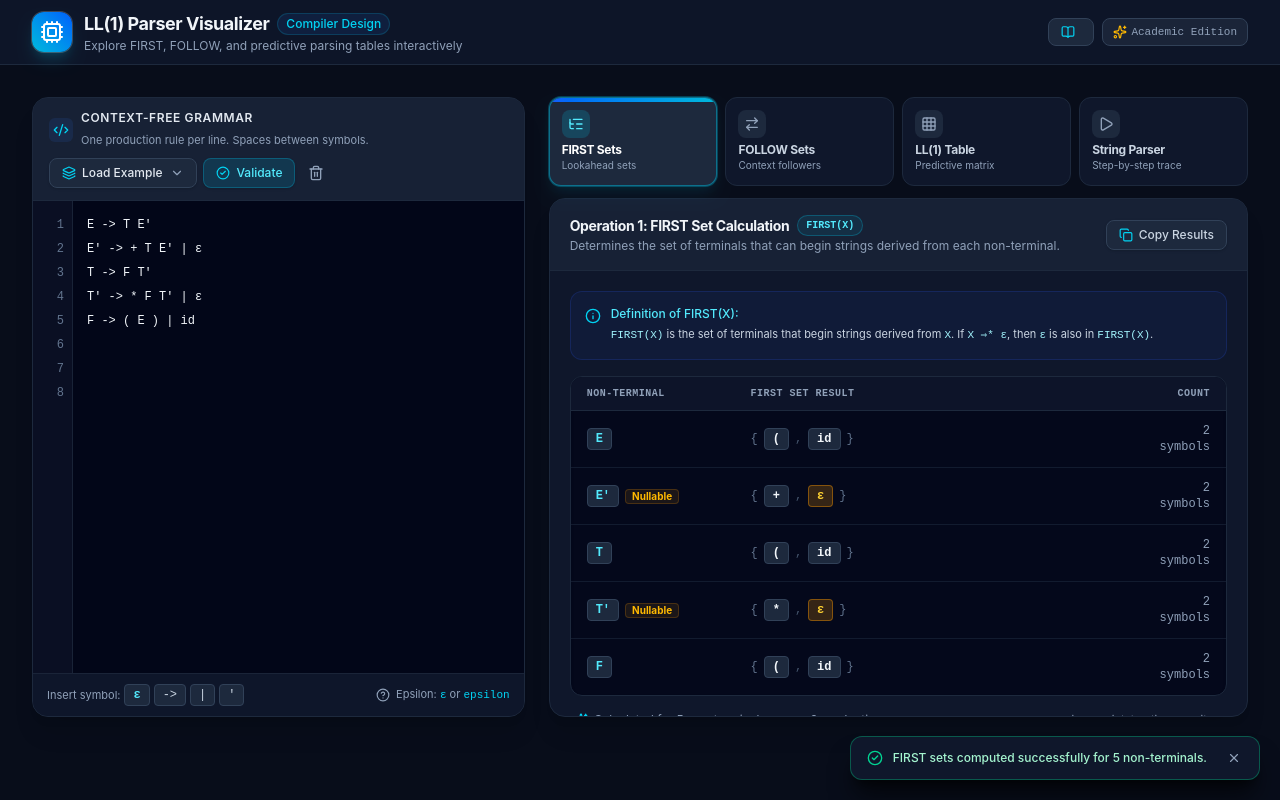
it: LL(1) Parser Visualizer UI Integration › switches to FOLLOW sets operation independently when clicking FOLLOW button
The image size is (1280, 800).
What coordinates should you click on to do the following:
click the button "FOLLOW Sets Context followers"
I would click on:
 (810, 142)
Its box is [726,97,894,186].
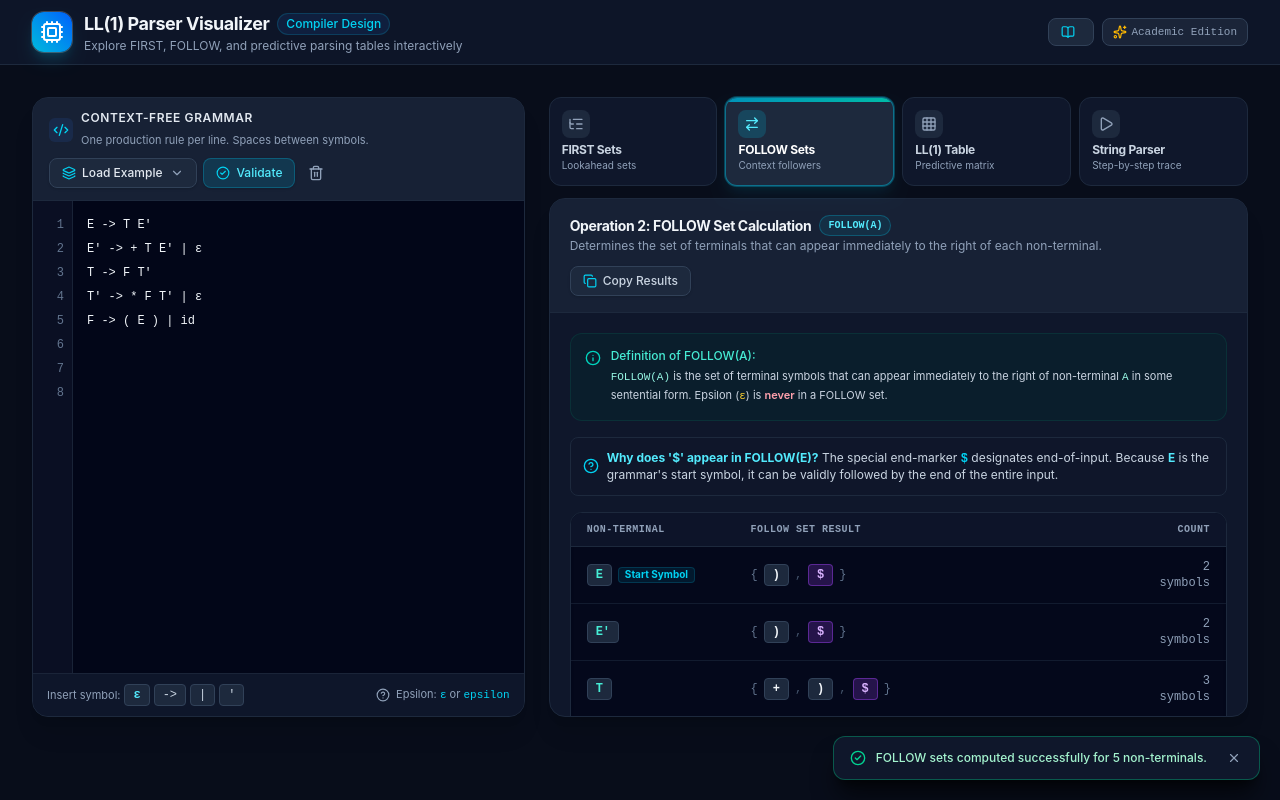
Now the heading "Operation 2: FOLLOW Set Calculation" is shown, box [570,216,812,236]
Now the text "Definition of FOLLOW(A):" is shown, box [611,348,756,363]
